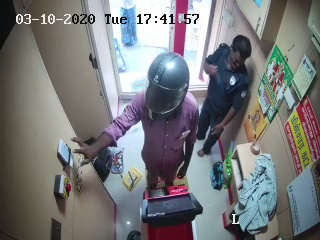helmet: (141, 51, 196, 120)
